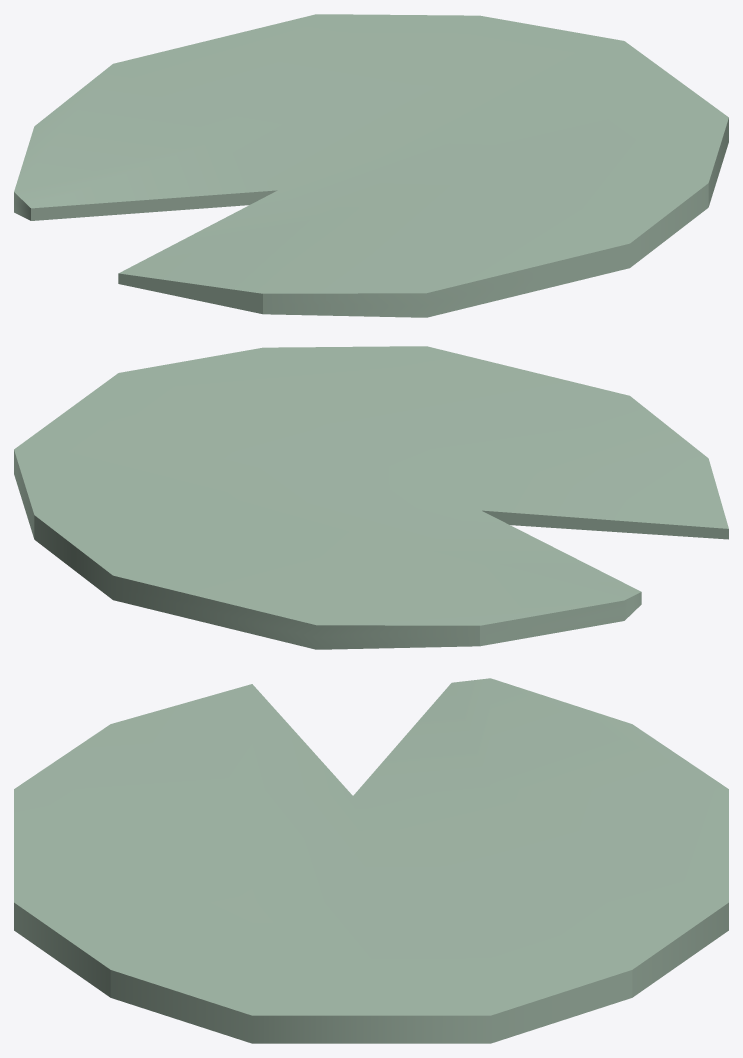
File: nenuphar_feuille.fbx
3 views of the same model, one above another, from view 1: azimuth 30°, elevation 25°; view 2: azimuth 150°, elevation 25°; view 3: azimuth 270°, elevation 25° (orthographic). The views are drawn at different scales.
Parts seen in each view (by area): view 1: nenuphar; view 2: nenuphar; view 3: nenuphar.
Part boxes in pixels (x1,y1,x2,y2): nenuphar: [14, 14, 728, 317]; nenuphar: [14, 346, 728, 649]; nenuphar: [14, 678, 728, 1043].
Bounding box in the file's own units: 1.12 × 0.0432 × 1.
